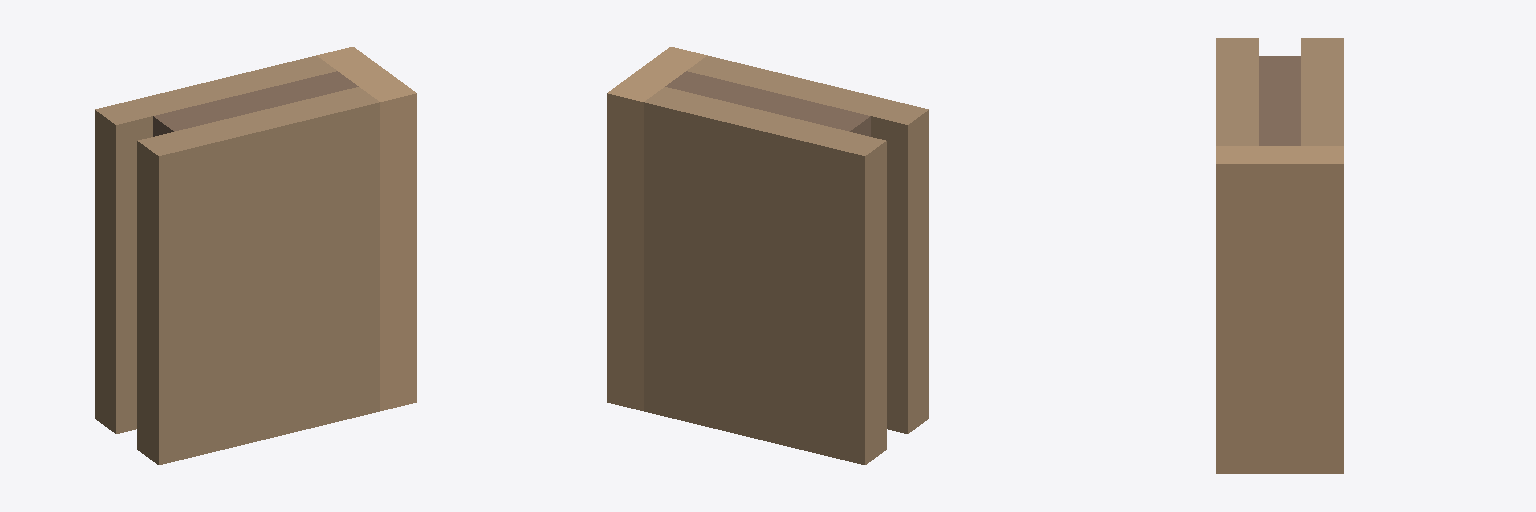
3 views of the same model, side by side, from view 1: azimuth 30°, elevation 25°; view 2: azimuth 150°, elevation 25°; view 3: azimuth 270°, elevation 25° (orthographic).
Visible parts, largest first — view 1: object 1; view 2: object 1; view 3: object 1.
Boxes of the visible parts, x1,y1,x2,y2 form: object 1: [95, 47, 416, 464]; object 1: [607, 47, 928, 464]; object 1: [1216, 38, 1343, 473].
Size of the model in its own units: 0.7 by 0.8 by 0.3.
1 materials, 1 textured.